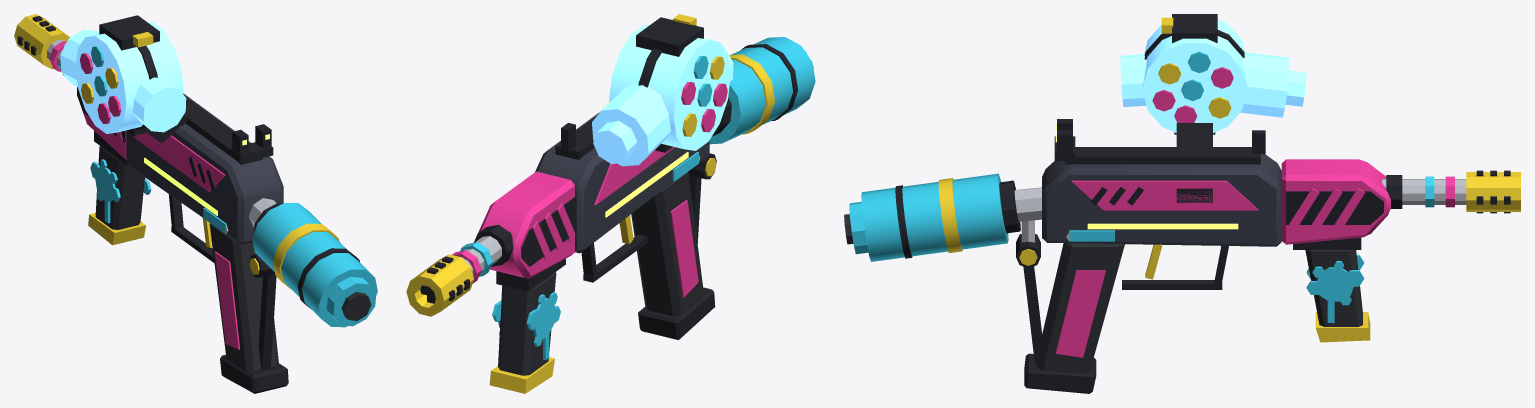
The model's file is SplatX.glb.
3 views of the same model, side by side, from view 1: azimuth 30°, elevation 25°; view 2: azimuth 150°, elevation 25°; view 3: azimuth 270°, elevation 25° (orthographic). The views are drawn at different scales.
Parts seen in each view (by area): view 1: Body, AirTank, Hopper, Grip, Foregrip, HopperTail, SidePlate, GripBase, Tip, GripInlay, TopRail, Hose (+17 smaller); view 2: Hopper, Body, Grip, AirTank, Shroud, Foregrip, HopperNose, Tip, GripBase, HopperLid, GripInlay, HopperTip (+18 smaller); view 3: Body, AirTank, Hopper, Grip, Shroud, SidePlate, TopRail, HopperNose, GripInlay, Foregrip, ShroudCore, Tip (+16 smaller).
Part boxes in pixels (<box>): Body: <box>126,93,283,244</box>; AirTank: <box>252,203,377,327</box>; Hopper: <box>75,22,183,133</box>; Grip: <box>209,223,278,371</box>; Foregrip: <box>95,146,144,229</box>; HopperTail: <box>132,77,186,132</box>; SidePlate: <box>134,132,225,191</box>; GripBase: <box>220,354,288,393</box>; Tip: <box>14,14,70,69</box>; GripInlay: <box>214,251,239,349</box>; TopRail: <box>184,96,262,164</box>; Hose: <box>258,273,276,370</box>; Hopper: <box>609,25,730,150</box>; Body: <box>535,112,709,253</box>; Grip: <box>631,172,704,316</box>; AirTank: <box>709,37,815,144</box>; Shroud: <box>478,171,574,278</box>; Foregrip: <box>498,272,556,375</box>; HopperNose: <box>592,84,670,166</box>; Tip: <box>406,254,473,316</box>; GripBase: <box>638,287,715,339</box>; HopperLid: <box>636,17,703,56</box>; GripInlay: <box>670,200,698,297</box>; HopperTip: <box>593,120,637,164</box>; Body: <box>1042,154,1281,246</box>; AirTank: <box>861,173,1008,261</box>; Hopper: <box>1142,19,1247,132</box>; Grip: <box>1037,243,1124,373</box>; Shroud: <box>1281,159,1390,244</box>; SidePlate: <box>1071,180,1258,210</box>; TopRail: <box>1065,147,1260,164</box>; HopperNose: <box>1240,52,1289,117</box>; GripInlay: <box>1055,270,1105,357</box>; Foregrip: <box>1305,250,1362,326</box>; ShroudCore: <box>1286,191,1383,224</box>; Tip: <box>1466,172,1520,211</box>.
Bounding box in the file's own units: 0.635 × 1.62 × 2.97.
